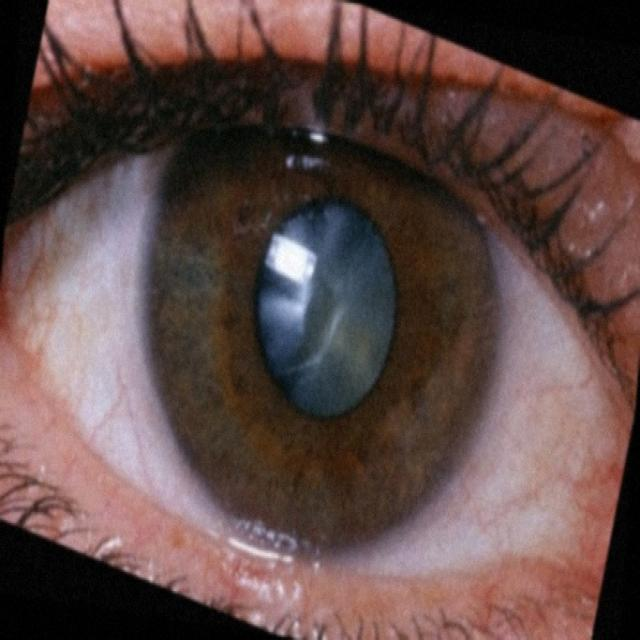Cataract: (84, 53, 564, 616)
